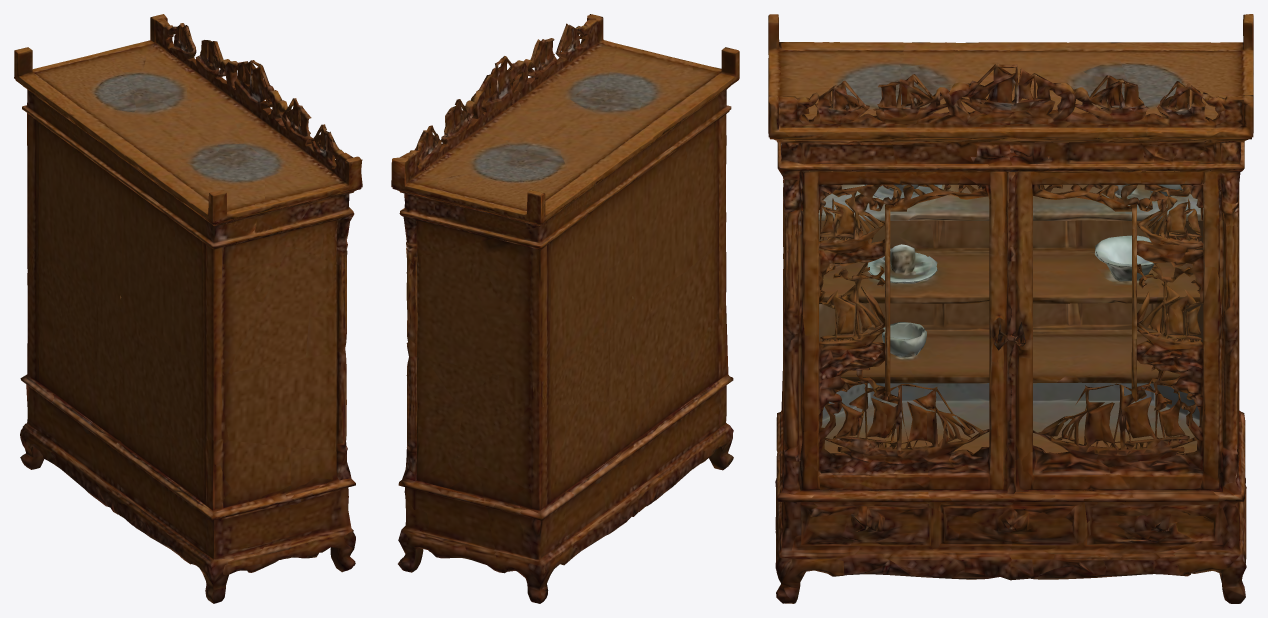
File: Lemari-Ukir-Phinisi-v1.glb
3 views of the same model, side by side, from view 1: azimuth 30°, elevation 25°; view 2: azimuth 150°, elevation 25°; view 3: azimuth 270°, elevation 25° (orthographic). The views are drawn at different scales.
Visible parts, largest first — view 1: tripo_node_aad3268e-8d54-4783-8053-b4f8e5a446c7; view 2: tripo_node_aad3268e-8d54-4783-8053-b4f8e5a446c7; view 3: tripo_node_aad3268e-8d54-4783-8053-b4f8e5a446c7.
Boxes of the visible parts, left/top/right/bottom form: tripo_node_aad3268e-8d54-4783-8053-b4f8e5a446c7: left=14, top=14, right=362, bottom=603; tripo_node_aad3268e-8d54-4783-8053-b4f8e5a446c7: left=391, top=14, right=739, bottom=603; tripo_node_aad3268e-8d54-4783-8053-b4f8e5a446c7: left=768, top=14, right=1253, bottom=603.
Bounding box in the file's own units: 0.3502 × 0.9805 × 0.7979.
1 material, 1 textured.
